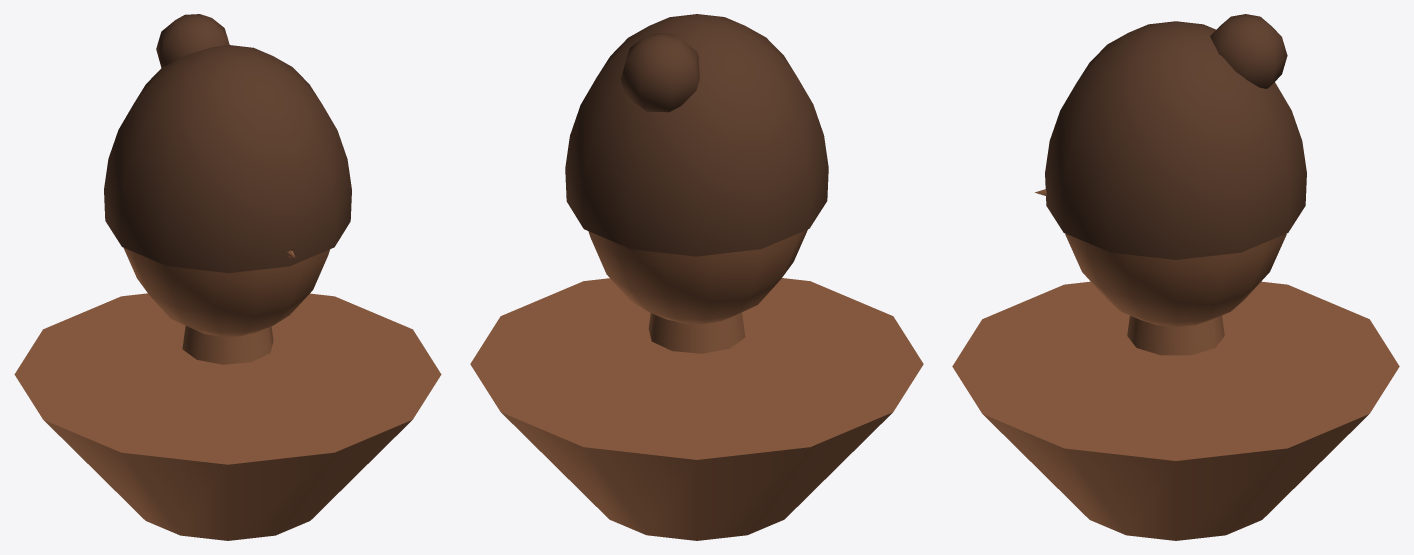
File: raw_003.glb
The picture shows the model from 3 angles, left to right: view 1: azimuth 30°, elevation 25°; view 2: azimuth 150°, elevation 25°; view 3: azimuth 270°, elevation 25°; orthographic projection. The views are drawn at different scales.
Size of the model in its own units: 1.93 by 2.28 by 1.93.
